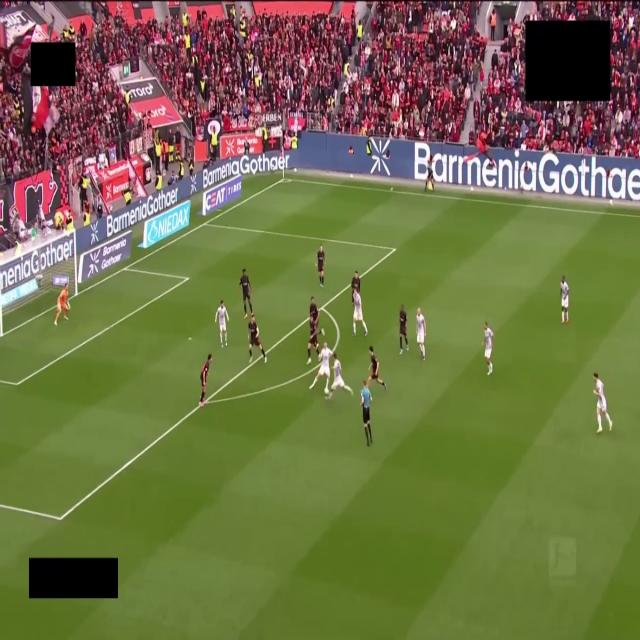ball: (324, 388, 329, 395)
player: (309, 343, 332, 394), (594, 373, 612, 432), (329, 352, 352, 398), (248, 313, 266, 362), (368, 346, 386, 390), (199, 354, 212, 407), (54, 284, 70, 326), (353, 291, 367, 335), (240, 269, 252, 319), (307, 314, 319, 364), (215, 300, 228, 346), (309, 296, 324, 335), (416, 308, 426, 360), (484, 322, 493, 375), (400, 305, 408, 354), (561, 276, 568, 323), (317, 245, 324, 287), (351, 272, 360, 300)
referee: (361, 381, 372, 446)
